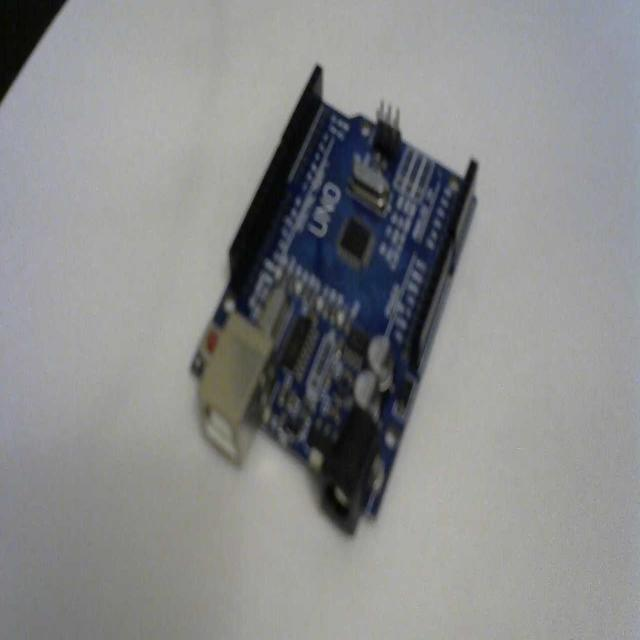arduino: (185, 56, 482, 542)
